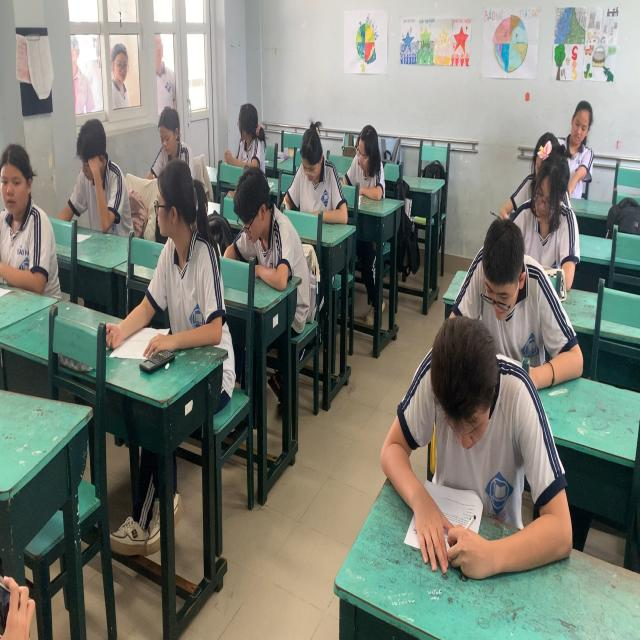cheating: (136, 153, 227, 351), (218, 99, 272, 178)
not_cheating: (384, 313, 556, 558), (458, 222, 558, 368), (0, 132, 56, 302), (519, 130, 573, 272), (226, 171, 290, 288), (284, 113, 349, 222), (68, 116, 124, 237), (560, 91, 599, 215), (344, 122, 390, 202), (151, 105, 190, 164)
